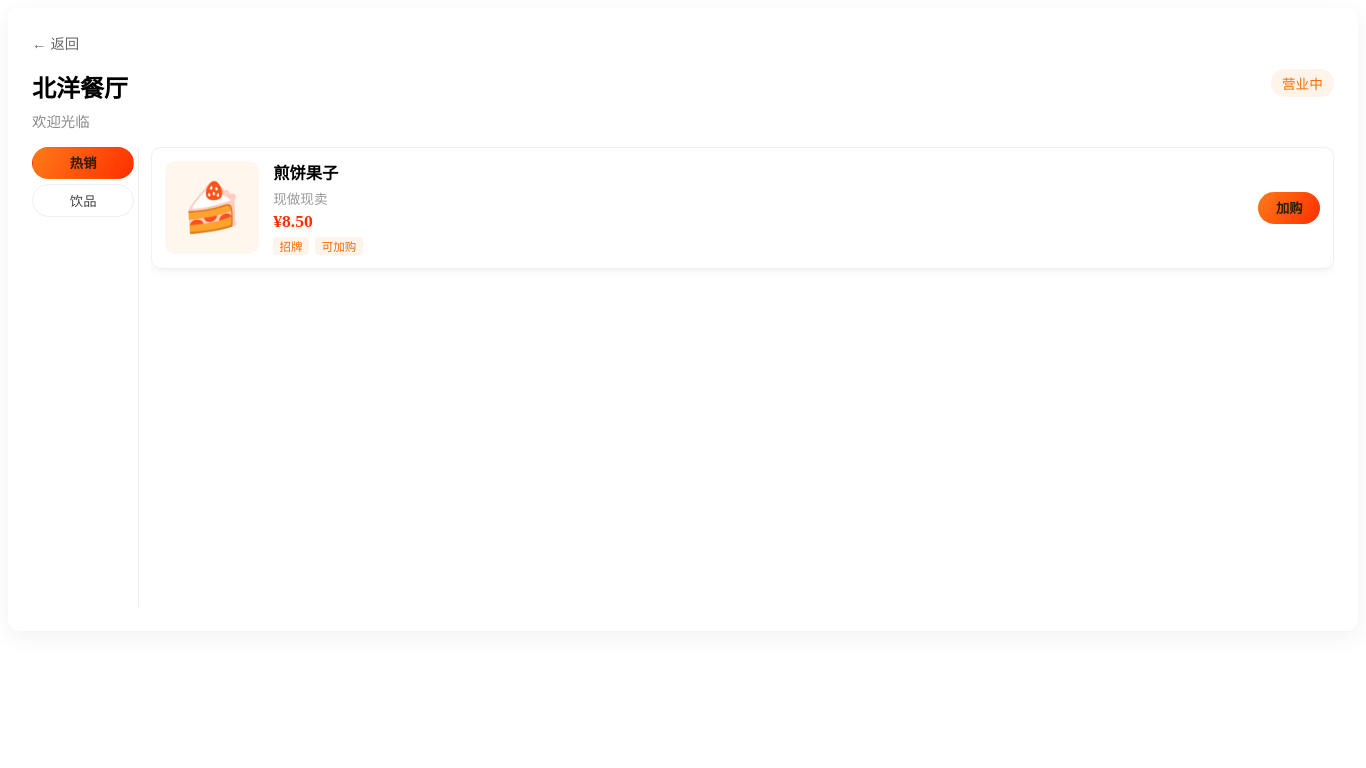
店铺页（顾客点单） › 加购请求未完成时禁用当前商品按钮
The width and height of the screenshot is (1366, 768).
Click the button with test id "add-40": click(1289, 208) [1258,192,1320,224]
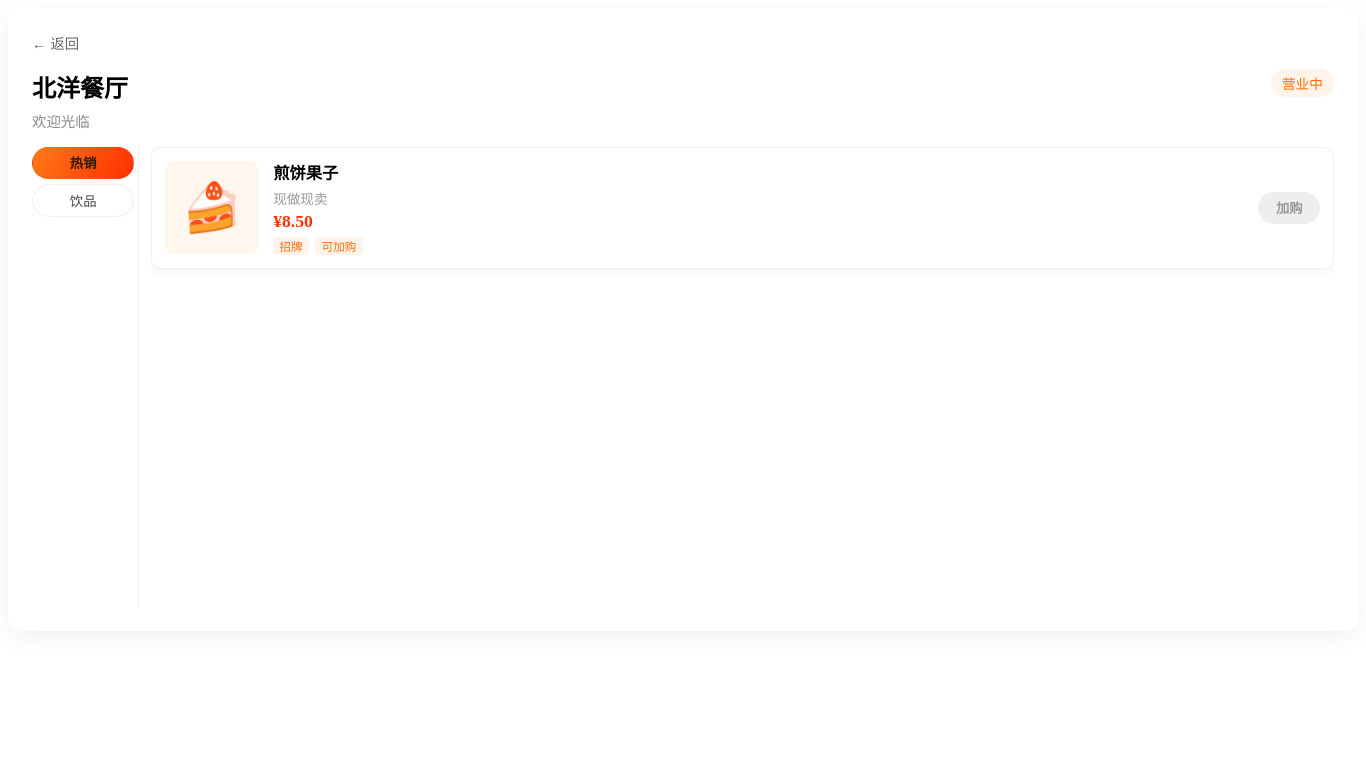
expect the button with test id "add-40" is disabled: met, box [1258,192,1320,224]
